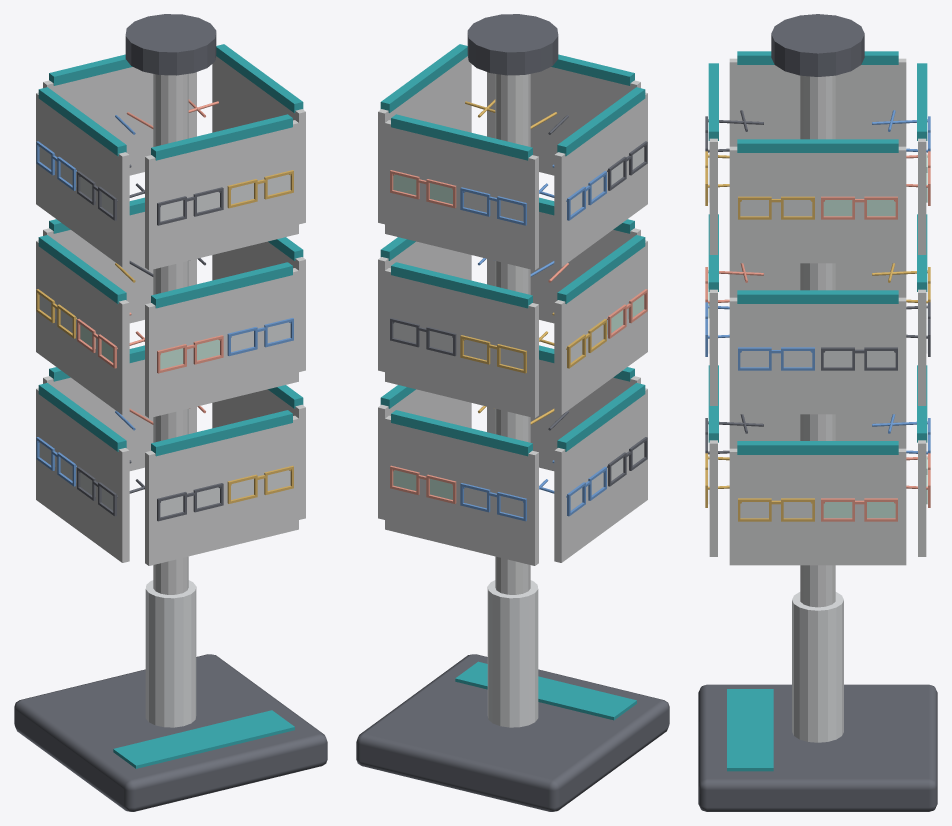
3 views of the same model, side by side, from view 1: azimuth 30°, elevation 25°; view 2: azimuth 150°, elevation 25°; view 3: azimuth 270°, elevation 25° (orthographic). The views are drawn at different scales.
Visible parts, largest first — view 1: carousel/white, frame-carousel, carousel/teal, carousel/dark, carousel/glass, carousel/amber, carousel/blue, carousel/coral, carousel/mint; view 2: carousel/white, frame-carousel, carousel/teal, carousel/dark, carousel/glass, carousel/blue, carousel/coral, carousel/mint, carousel/amber; view 3: carousel/white, frame-carousel, carousel/teal, carousel/dark, carousel/glass, carousel/amber, carousel/coral, carousel/mint, carousel/blue.
Part boxes in pixels (bbox=[...]): carousel/white: bbox=[36, 56, 305, 594]; frame-carousel: bbox=[14, 580, 327, 811]; carousel/teal: bbox=[38, 44, 303, 456]; carousel/dark: bbox=[77, 14, 223, 521]; carousel/glass: bbox=[40, 147, 290, 516]; carousel/amber: bbox=[36, 170, 293, 503]; carousel/blue: bbox=[36, 115, 293, 486]; carousel/coral: bbox=[77, 99, 223, 424]; carousel/mint: bbox=[80, 325, 219, 369]; carousel/white: bbox=[378, 56, 647, 594]; frame-carousel: bbox=[356, 580, 669, 811]; carousel/teal: bbox=[380, 44, 645, 456]; carousel/dark: bbox=[390, 14, 647, 486]; carousel/glass: bbox=[393, 147, 643, 516]; carousel/blue: bbox=[460, 164, 606, 521]; carousel/coral: bbox=[390, 170, 647, 503]; carousel/mint: bbox=[393, 174, 643, 499]; carousel/amber: bbox=[460, 99, 606, 424]; carousel/white: bbox=[709, 58, 926, 607]; frame-carousel: bbox=[698, 592, 937, 811]; carousel/teal: bbox=[708, 51, 927, 454]; carousel/dark: bbox=[705, 14, 930, 454]; carousel/glass: bbox=[708, 138, 927, 517]; carousel/amber: bbox=[705, 151, 930, 521]; carousel/coral: bbox=[705, 151, 930, 521]; carousel/mint: bbox=[708, 155, 927, 517]; carousel/blue: bbox=[705, 110, 930, 454].
Bounding box in the file's own units: 0.46 × 1.55 × 0.46.
